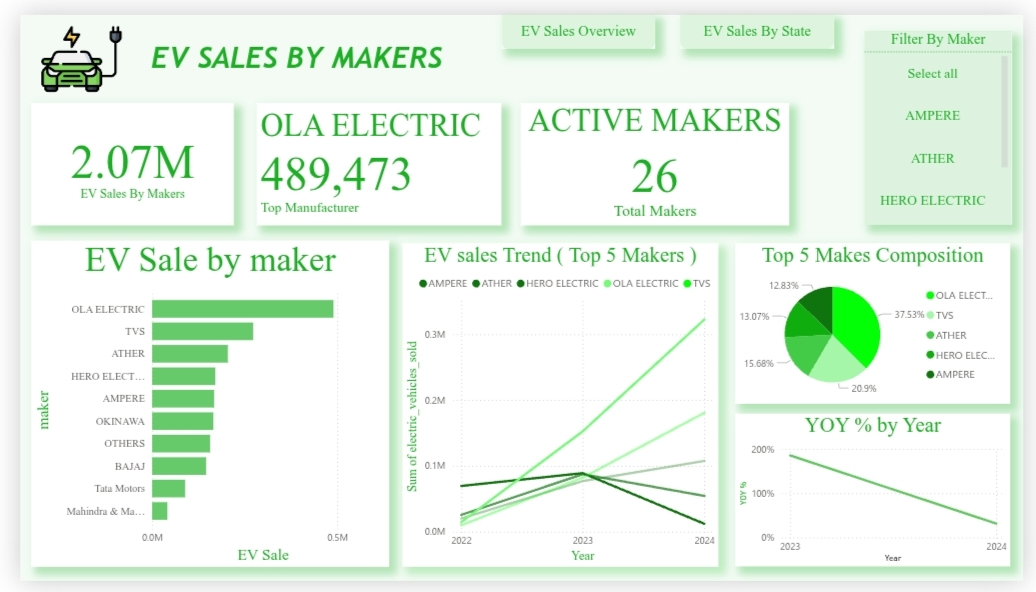

The dashboard page shown, as its layout file describes it:
{"tool":"powerbi","page":{"name":"EV Sale By Maker","canvas":[1280,720],"ordinal":2},"visuals":[{"type":"multiRowCard","fields":{"Values":["electric_vehicle_sales_by_makers.maker","Sum(electric_vehicle_sales_by_makers.electric_vehicles_sold)"]},"box":[302.4,112.5,312.4,156.2],"z":0},{"type":"image","box":[0,0,156.2,112.5],"z":1000},{"type":"textbox","box":[156.2,28.6,389.7,60.5],"z":2000},{"type":"actionButton","box":[614.8,0,196.5,43.7],"z":3000},{"type":"actionButton","box":[843.3,0,196.5,43.7],"z":4000},{"type":"barChart","fields":{"Category":["electric_vehicle_sales_by_makers.maker"],"Y":["Sum(electric_vehicle_sales_by_makers.electric_vehicles_sold)"]},"box":[13.4,287.2,456.9,416.6],"z":5000},{"type":"lineChart","title":"EV sales Trend ( Top 5 Makers )","fields":{"Category":["electric_vehicle_sales_by_makers.Fiscal_Year.Variation.Date Hierarchy.Year"],"Y":["Sum(electric_vehicle_sales_by_makers.electric_vehicles_sold)"],"Series":["electric_vehicle_sales_by_makers.maker"]},"box":[488.8,290.6,403.1,413.2],"z":6000},{"type":"pieChart","title":"Top 5 Makes Composition","fields":{"Category":["electric_vehicle_sales_by_makers.maker"],"Y":["Sum(electric_vehicle_sales_by_makers.electric_vehicles_sold)"]},"box":[913.8,290.6,351.1,204.9],"z":7000},{"type":"lineChart","fields":{"Category":["electric_vehicle_sales_by_makers.Fiscal_Year.Variation.Date Hierarchy.Year"],"Y":["electric_vehicle_sales_by_makers.YOY %"]},"box":[913.8,509,351.1,194.9],"z":8000},{"type":"card","title":"ACTIVE MAKERS","fields":{"Values":["Count(electric_vehicle_sales_by_makers.maker)"]},"box":[640,112.5,342.7,156.2],"z":9000},{"type":"card","fields":{"Values":["Sum(electric_vehicle_sales_by_makers.electric_vehicles_sold)"]},"box":[15.1,112.5,258.7,156.2],"z":10000},{"type":"advancedSlicerVisual","title":"Filter By Maker","fields":{"Values":["electric_vehicle_sales_by_makers.maker"]},"box":[1076.7,21.8,188.1,246.9],"z":11000}]}

Visuals, with their boxes in screenshot pixels (x1, y1, x2, y2), scaled from the page's 1280x720 canvas onto the 1036x592 screenshot:
multiRowCard - electric_vehicle_sales_by_makers.maker x Sum(electric_vehicle_sales_by_makers.electric_vehicles_sold): 245 92 498 221
image: 0 0 126 92
textbox: 126 24 442 73
actionButton: 498 0 657 36
actionButton: 683 0 842 36
barChart - electric_vehicle_sales_by_makers.maker x Sum(electric_vehicle_sales_by_makers.electric_vehicles_sold): 11 236 381 579
"EV sales Trend ( Top 5 Makers )" lineChart: 396 239 722 579
"Top 5 Makes Composition" pieChart: 740 239 1024 407
lineChart - electric_vehicle_sales_by_makers.Fiscal_Year.Variation.Date Hierarchy.Year x electric_vehicle_sales_by_makers.YOY %: 740 419 1024 579
"ACTIVE MAKERS" card: 518 92 795 221
card - Sum(electric_vehicle_sales_by_makers.electric_vehicles_sold): 12 92 222 221
"Filter By Maker" advancedSlicerVisual: 871 18 1024 221
